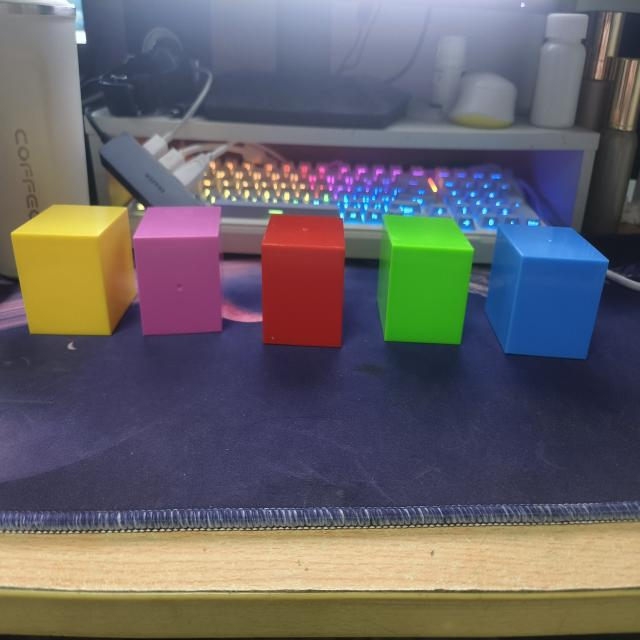blue: (485, 223, 609, 362)
green: (378, 215, 474, 348)
pink: (131, 206, 224, 338)
red: (260, 211, 347, 351)
yellow: (10, 205, 138, 339)
